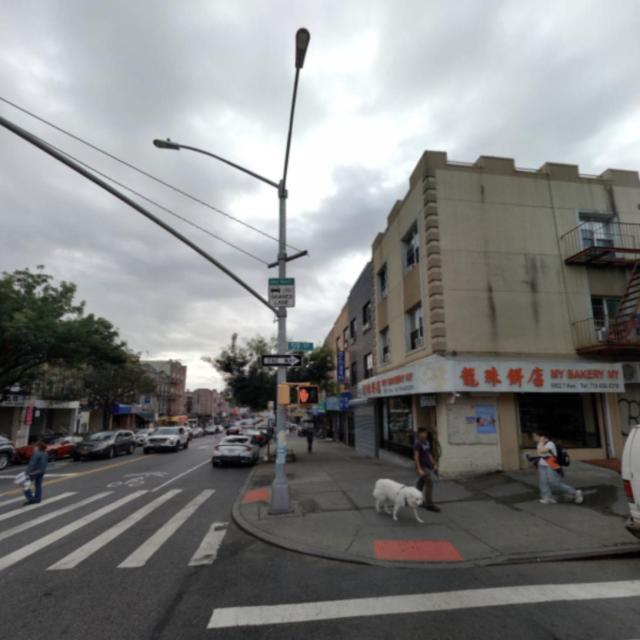off: (137, 33, 346, 192)
